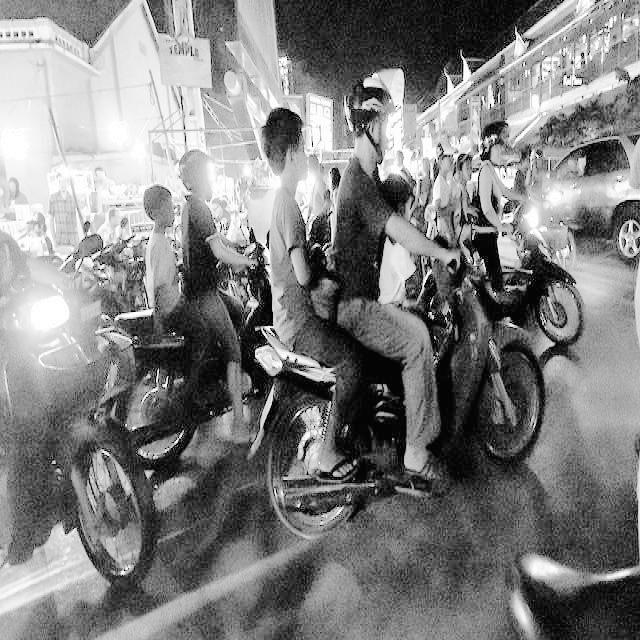Car: (547, 127, 640, 296)
Motorcycle: (248, 217, 563, 581), (117, 243, 288, 465), (0, 395, 179, 603), (489, 197, 592, 357), (23, 213, 150, 326)
